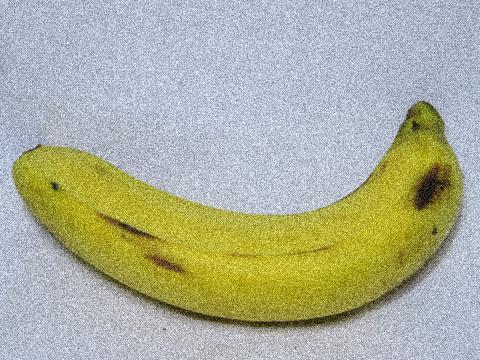freshripe: (7, 89, 466, 332)
